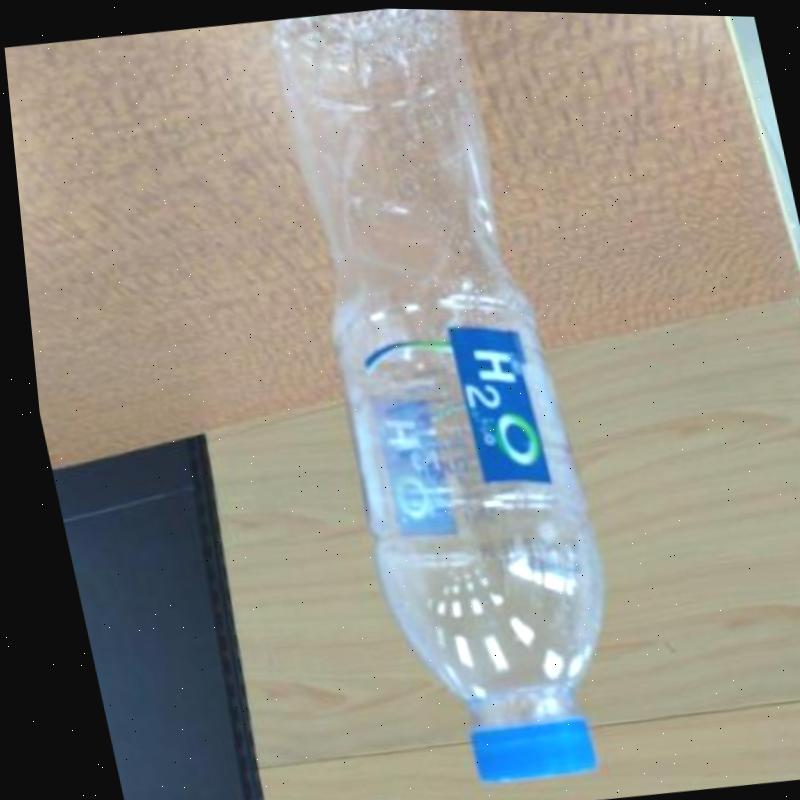botella: (255, 4, 629, 789)
